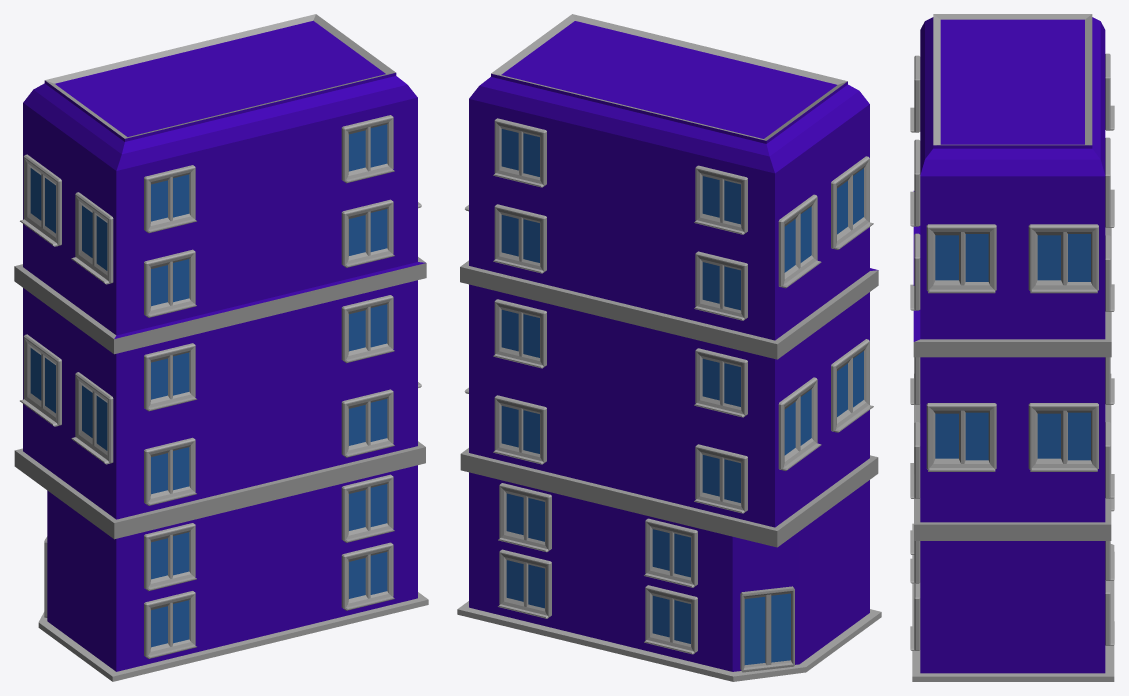
File: WHITE BUILDING3.006_COLOR.015.glb
3 views of the same model, side by side, from view 1: azimuth 30°, elevation 25°; view 2: azimuth 150°, elevation 25°; view 3: azimuth 270°, elevation 25° (orthographic). The views are drawn at different scales.
Visible parts, largest first — view 1: WHITE BUILDING3.006_COLOR.015_0; view 2: WHITE BUILDING3.006_COLOR.015_0; view 3: WHITE BUILDING3.006_COLOR.015_0.
Part boxes in pixels (bbox=[...]): WHITE BUILDING3.006_COLOR.015_0: bbox=[14, 14, 428, 681]; WHITE BUILDING3.006_COLOR.015_0: bbox=[457, 14, 881, 681]; WHITE BUILDING3.006_COLOR.015_0: bbox=[910, 14, 1114, 681].
Bounding box in the file's own units: 2.12 × 3.38 × 1.19.
Materials: 1 (1 with a texture image).
